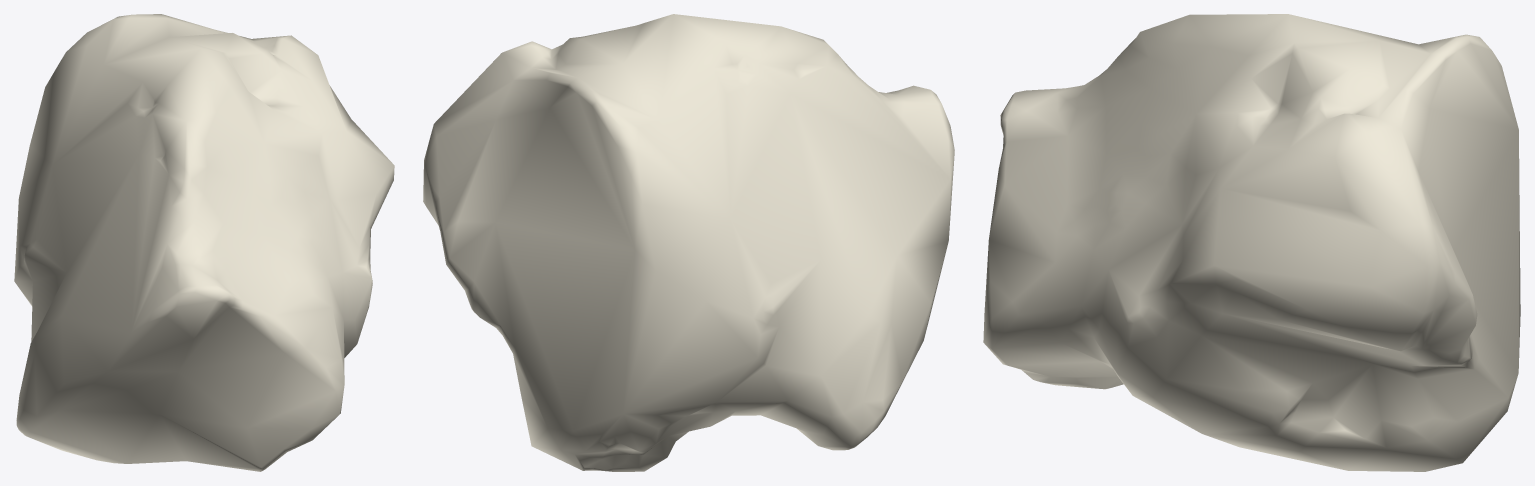
The picture shows the model from 3 angles, left to right: view 1: azimuth 30°, elevation 25°; view 2: azimuth 150°, elevation 25°; view 3: azimuth 270°, elevation 25°; orthographic projection. The views are drawn at different scales.
Parts seen in each view (by area): view 1: ZA_12920229909a4ea9; view 2: ZA_12920229909a4ea9; view 3: ZA_12920229909a4ea9.
Part boxes in pixels (x1,y1,x2,y2): ZA_12920229909a4ea9: (14, 14, 394, 471); ZA_12920229909a4ea9: (423, 14, 954, 471); ZA_12920229909a4ea9: (983, 14, 1520, 471).
Bounding box in the file's own units: 0.0322 × 0.0309 × 0.0342.
